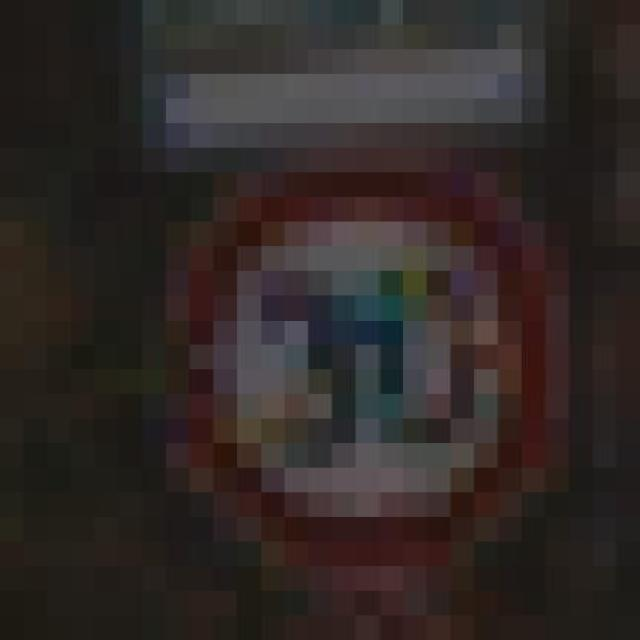forb_speed_over_30: (185, 178, 552, 573)
